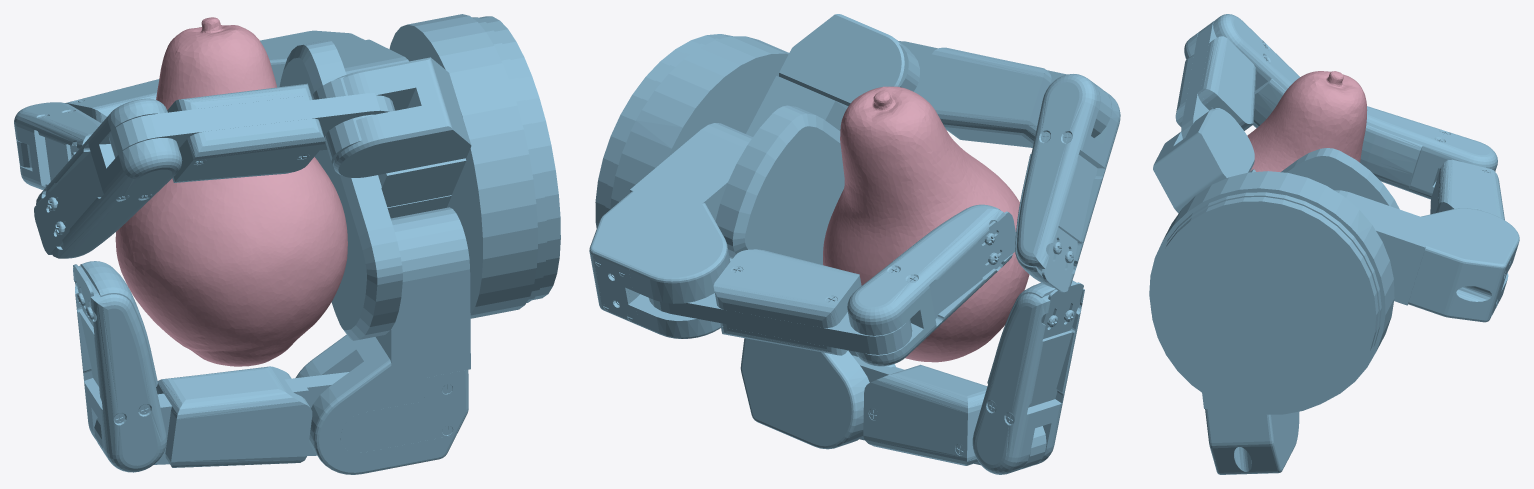
The picture shows the model from 3 angles, left to right: view 1: azimuth 30°, elevation 25°; view 2: azimuth 150°, elevation 25°; view 3: azimuth 270°, elevation 25°; orthographic projection. The views are drawn at different scales.
Parts seen in each view (by area): view 1: world; view 2: world; view 3: world.
Boxes of the visible parts, x1,y1,x2,y2 form: world: [14, 14, 560, 474]; world: [589, 14, 1120, 474]; world: [1149, 14, 1519, 474].
Size of the model in its own units: 0.1577 by 0.1408 by 0.1368.
